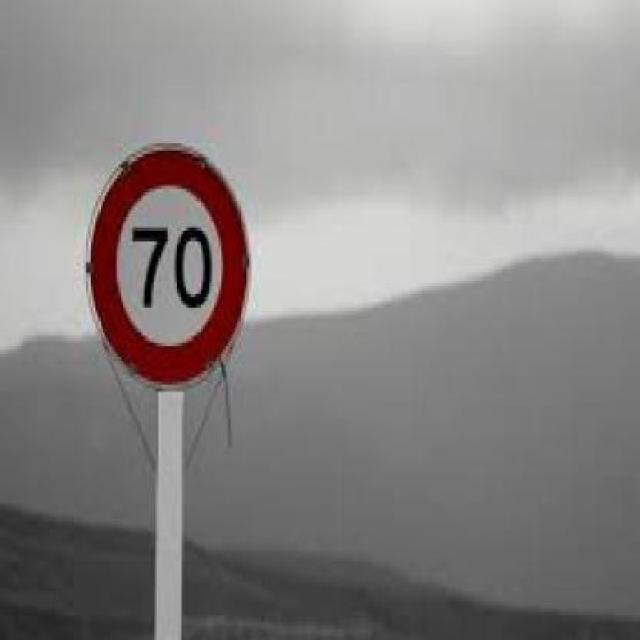forb_speed_over_70: (84, 137, 256, 395)
